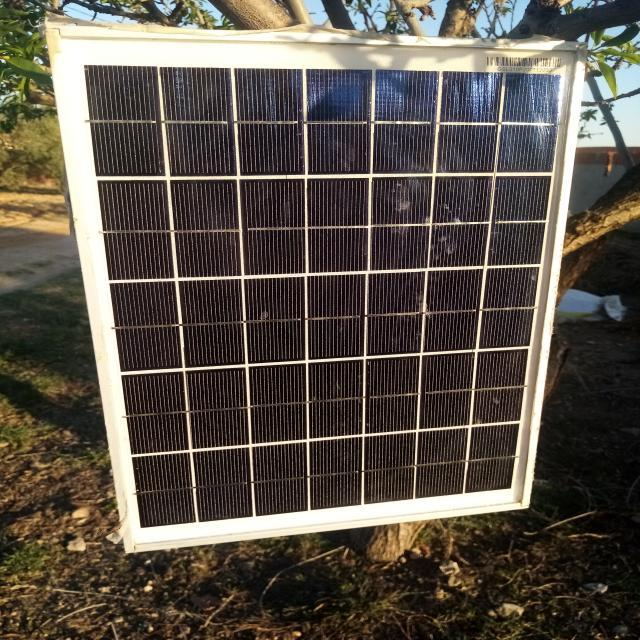no faulty: (45, 29, 587, 554)
